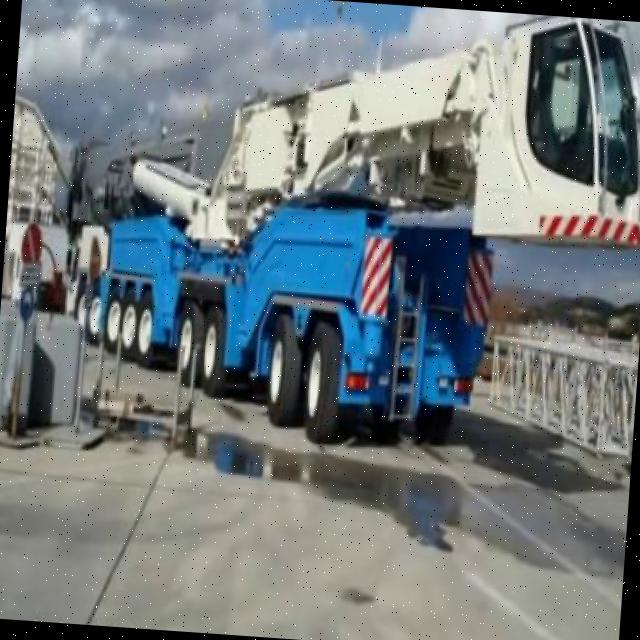Mobile Crane: (56, 0, 640, 460)
